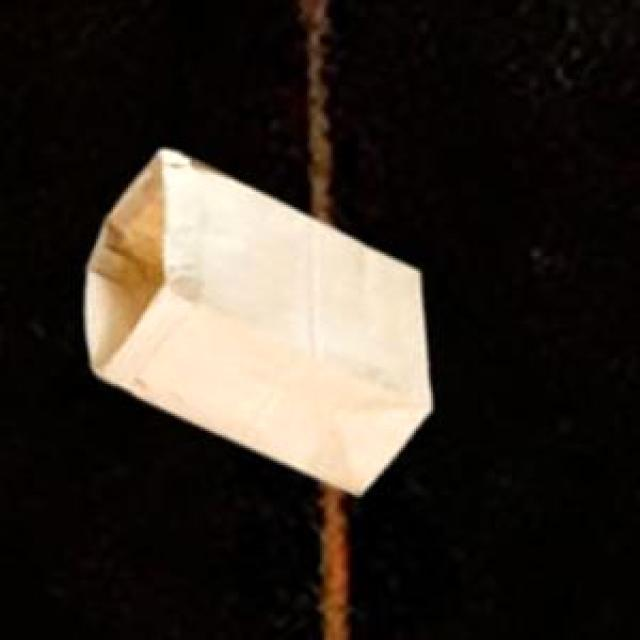Paper_Bag: (82, 148, 428, 492)
